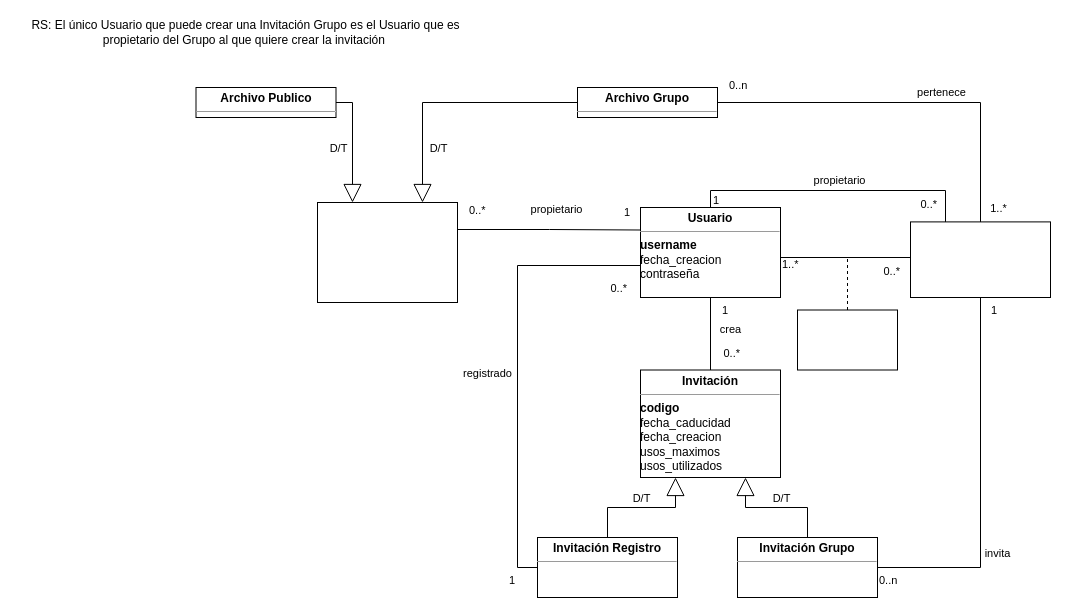
The diagram is 1068 pixels wide and 615 high, and some of its shapes have lost their labels. Here are the shapes that lost their labels. From the top down, the box of each, then its label:
(316, 202, 458, 302): Archivo id data visualizaciones fecha_publicación mime
(910, 221, 1050, 298): Grupo id nombre fecha_creacion
(796, 309, 898, 370): Registro fecha
